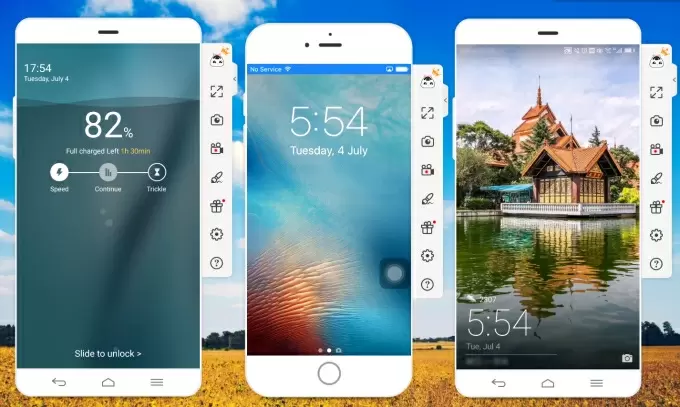Phone: (12, 14, 205, 400), (452, 17, 643, 400), (242, 21, 418, 400)
